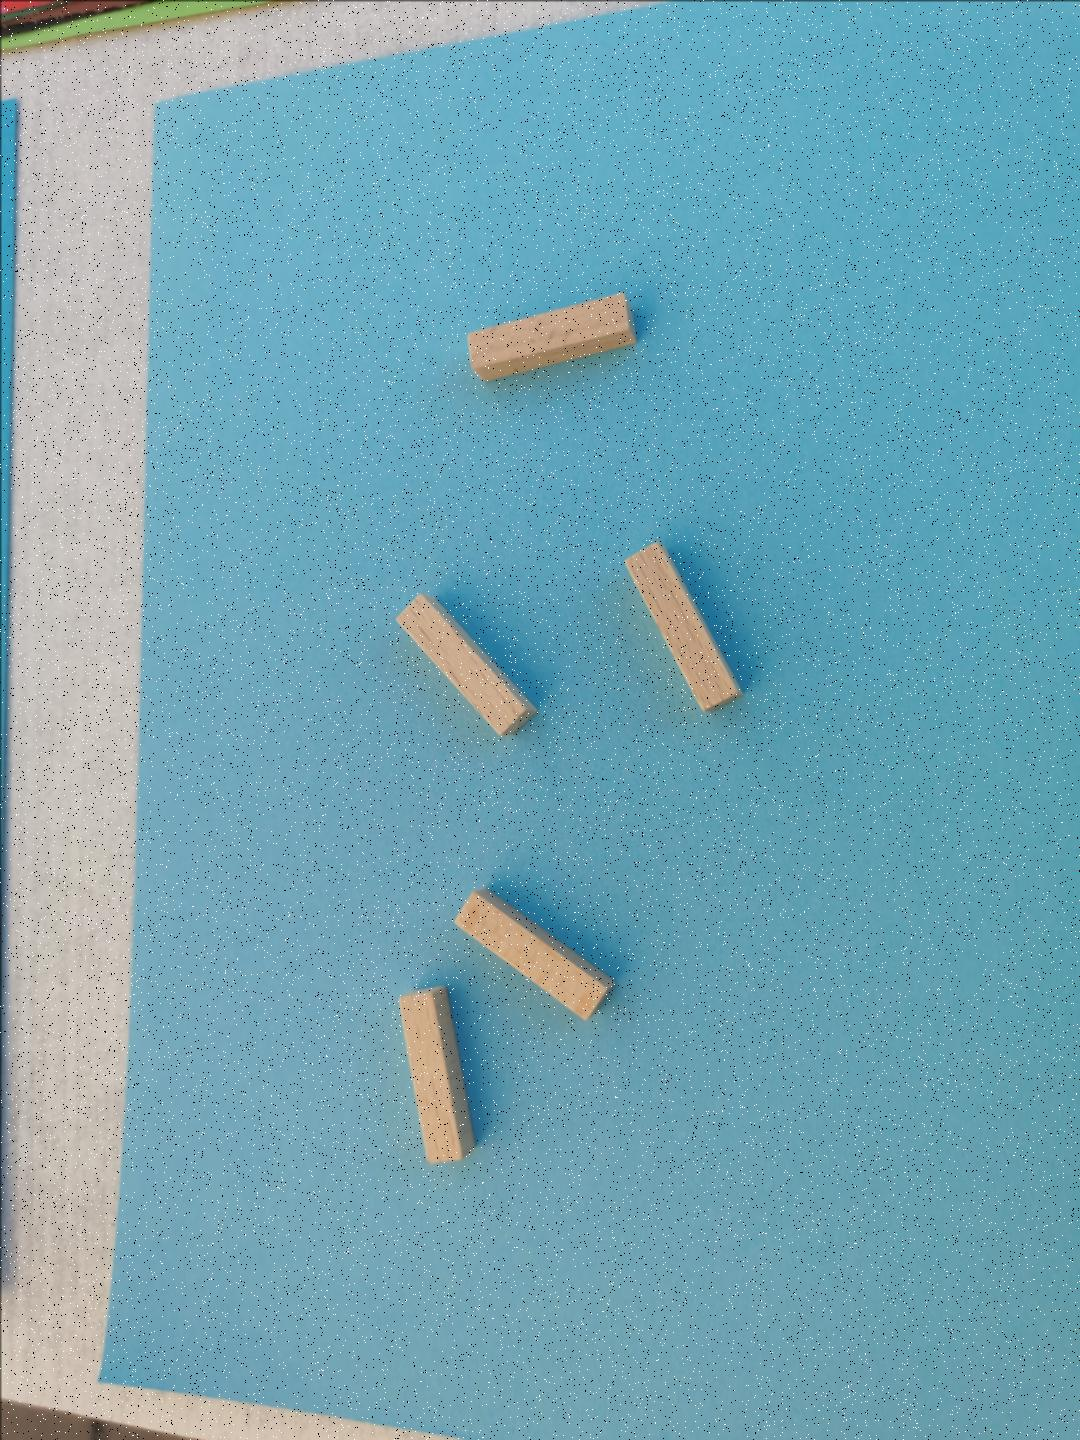jenga: (456, 889, 613, 1018), (624, 543, 740, 712), (397, 593, 534, 734), (467, 293, 635, 380), (399, 984, 472, 1161)
